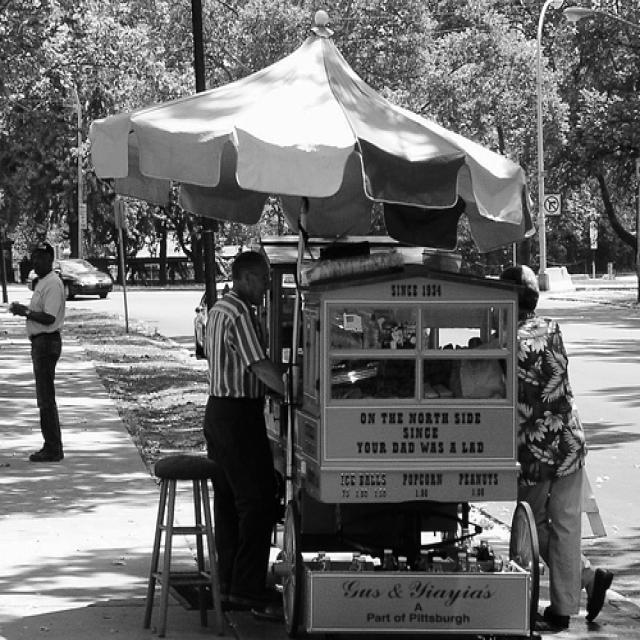light_vehicle: (24, 258, 113, 300)
